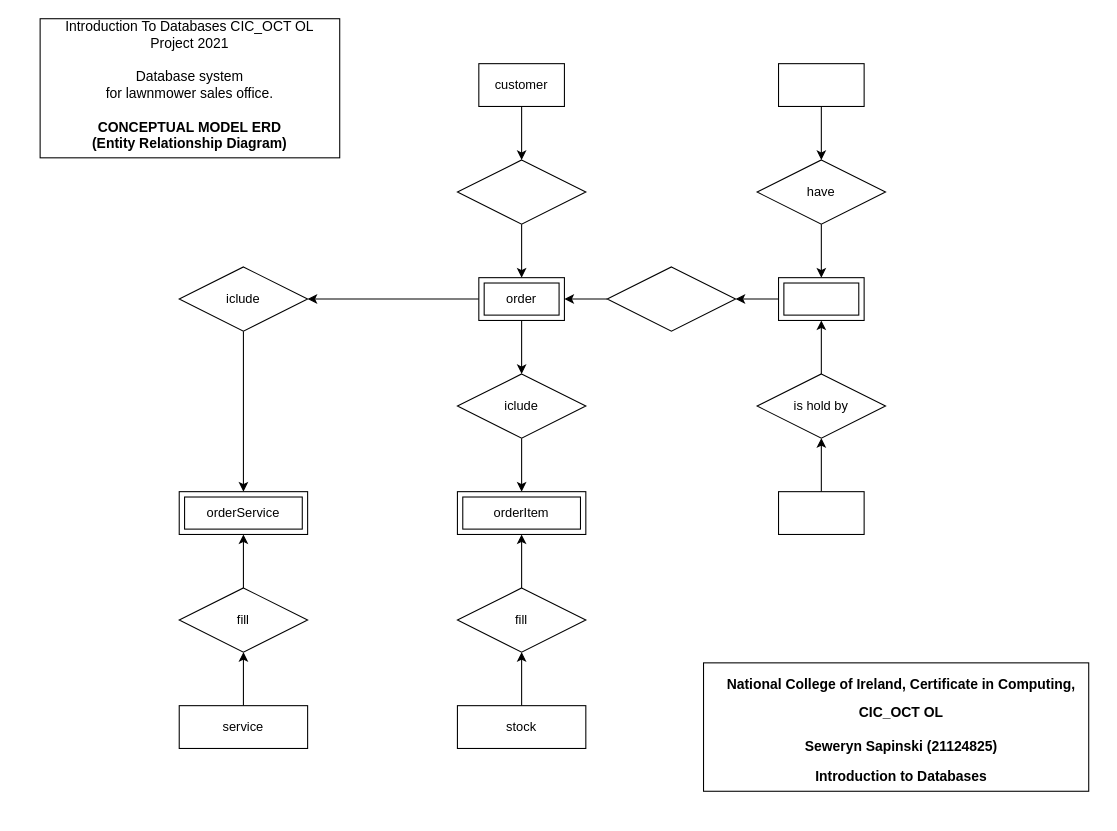
The diagram is 1117 pixels wide and 831 high, and some of its shapes have lost their labels. Here are the shapes that lost their labels. From the top down, the box of each, then its label:
(777, 63, 864, 106): branch
(456, 159, 586, 224): place
(606, 266, 736, 331): arrange
(777, 277, 864, 320): employee
(777, 491, 864, 534): position
